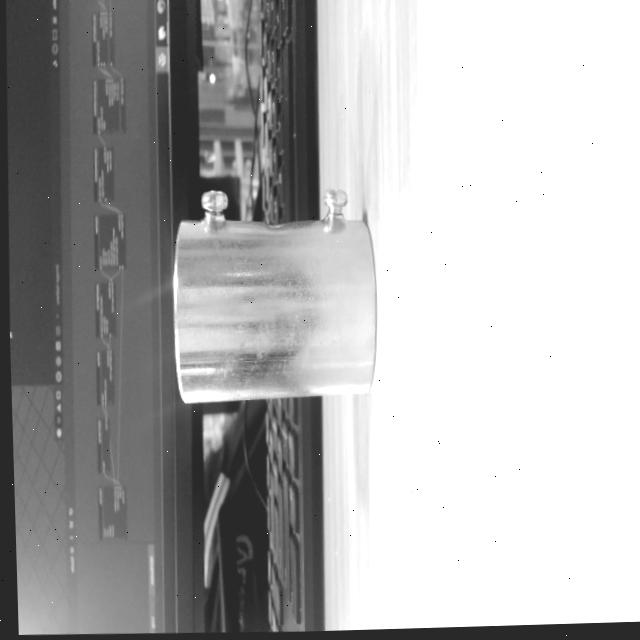Co_Nho: (169, 180, 379, 404)
